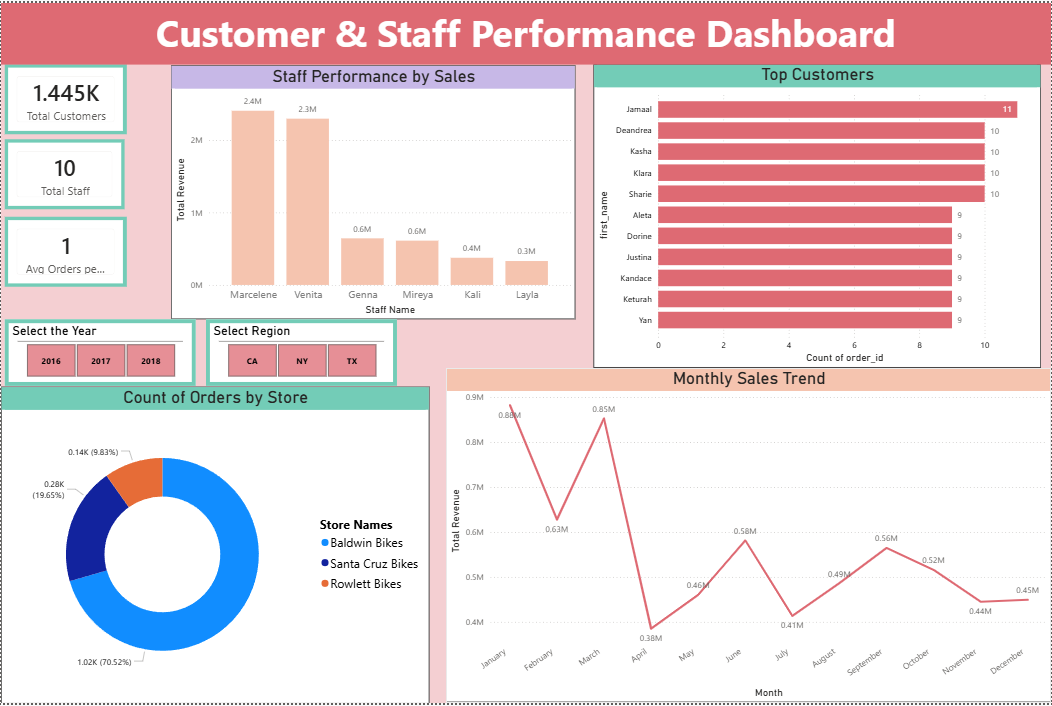

This screenshot's page, from the dashboard's own definition file:
{"tool":"powerbi","page":{"name":"Customer & Staff Dashboard","canvas":[1500,1000],"ordinal":2},"visuals":[{"type":"cardVisual","fields":{"Data":["customer_cleaned.Total Customers"]},"box":[5.1,88.1,174.6,100],"z":0},{"type":"cardVisual","fields":{"Data":["staffs.Total Staff"]},"box":[5.1,194.9,171.2,100],"z":1000},{"type":"donutChart","title":"Count of Orders by Store","fields":{"Category":["stores.store_name"],"Y":["CountNonNull(orders_clean.order_id)"]},"box":[0,547.5,611.9,452.5],"z":2000},{"type":"clusteredColumnChart","title":"Staff Performance by Sales","fields":{"Category":["staffs.first_name"],"Y":["orders_clean.Total Revenue"]},"box":[242.4,89.8,578,362.7],"z":3000},{"type":"clusteredBarChart","title":"Top Customers","fields":{"Category":["customer_cleaned.first_name"],"Y":["CountNonNull(order_items_cleaned.order_id)"]},"box":[845.8,88.1,639,433.9],"z":4000},{"type":"lineChart","title":"Monthly Sales Trend","fields":{"Y":["orders_clean.Total Revenue"],"Category":["Date Table.Date.Variation.Date Hierarchy.Month"]},"box":[635.6,522,864.4,478],"z":5000},{"type":"textbox","box":[0,0,1500,88.1],"z":6000},{"type":"cardVisual","fields":{"Data":["orders_clean.Avg Orders per Customer"]},"box":[5.1,305.1,174.6,100],"z":7000},{"type":"slicer","title":"Select the Year","fields":{"Values":["Date Table.Date.Variation.Date Hierarchy.Year"]},"box":[5.1,452.5,272.9,94.9],"z":7001},{"type":"slicer","title":"Select Region","fields":{"Values":["customer_cleaned.state"]},"box":[293.2,452.5,272.9,94.9],"z":7002}]}

Visuals, with their boxes in screenshot pixels (x1, y1, x2, y2), scaled from the page's 1500x1000 canvas onto the 1052x706 screenshot:
cardVisual - customer_cleaned.Total Customers: (x1=4, y1=62, x2=126, y2=133)
cardVisual - staffs.Total Staff: (x1=4, y1=138, x2=124, y2=208)
"Count of Orders by Store" donutChart: (x1=0, y1=387, x2=429, y2=705)
"Staff Performance by Sales" clusteredColumnChart: (x1=170, y1=63, x2=575, y2=319)
"Top Customers" clusteredBarChart: (x1=593, y1=62, x2=1041, y2=369)
"Monthly Sales Trend" lineChart: (x1=446, y1=369, x2=1051, y2=705)
textbox: (x1=0, y1=0, x2=1051, y2=62)
cardVisual - orders_clean.Avg Orders per Customer: (x1=4, y1=215, x2=126, y2=286)
"Select the Year" slicer: (x1=4, y1=319, x2=195, y2=386)
"Select Region" slicer: (x1=206, y1=319, x2=397, y2=386)
